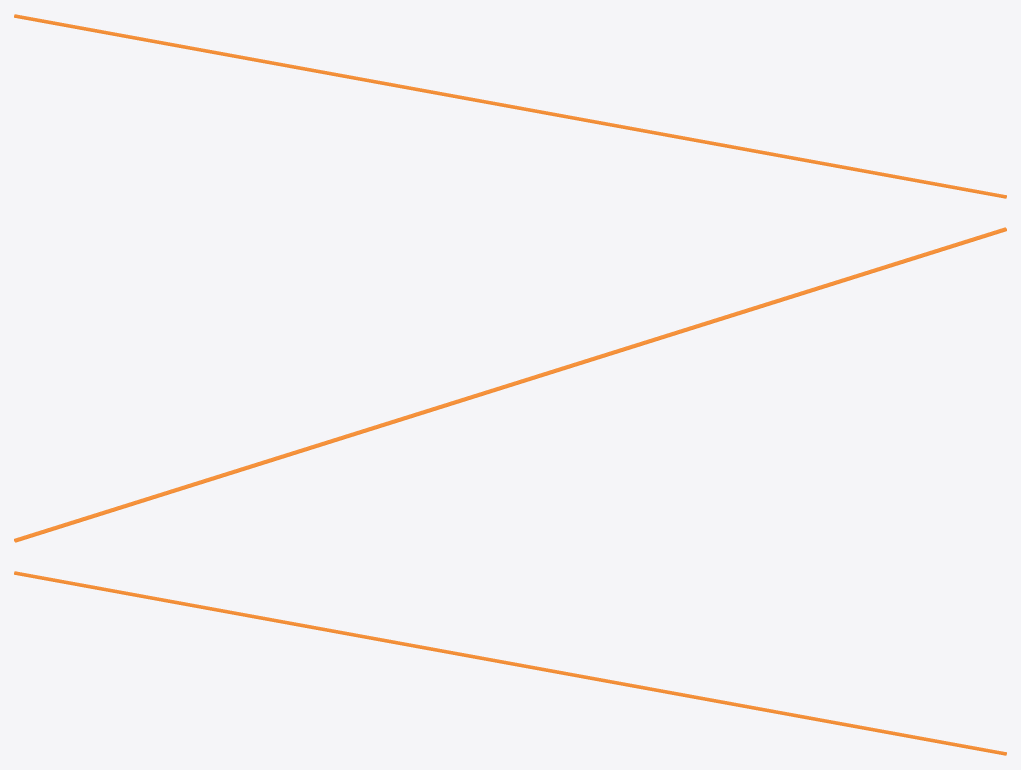
3 views of the same model, one above another, from view 1: azimuth 90°, elevation 25°; view 2: azimuth 150°, elevation 25°; view 3: azimuth 270°, elevation 25° (orthographic). The views are drawn at different scales.
Visible parts, largest first — view 1: BezierCurve.008; view 2: BezierCurve.008; view 3: BezierCurve.008.
Part boxes in pixels (x1=…): BezierCurve.008: x1=14, y1=14, x2=1006, y2=198; BezierCurve.008: x1=14, y1=227, x2=1006, y2=542; BezierCurve.008: x1=14, y1=571, x2=1006, y2=755.
Size of the model in its own units: 11.99 by 0.1 by 27.58.
